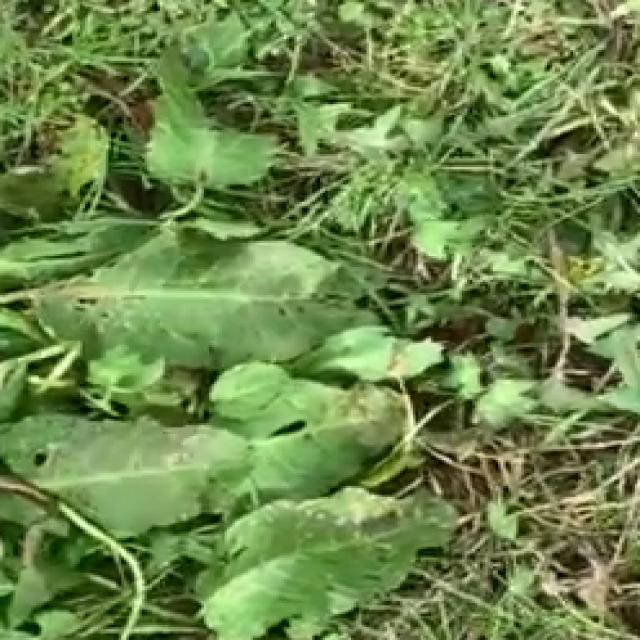organic waste: (0, 65, 495, 637)
